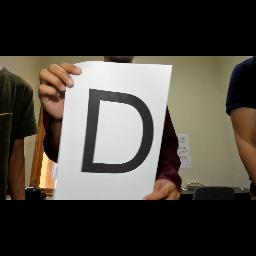d: (78, 84, 154, 178)
